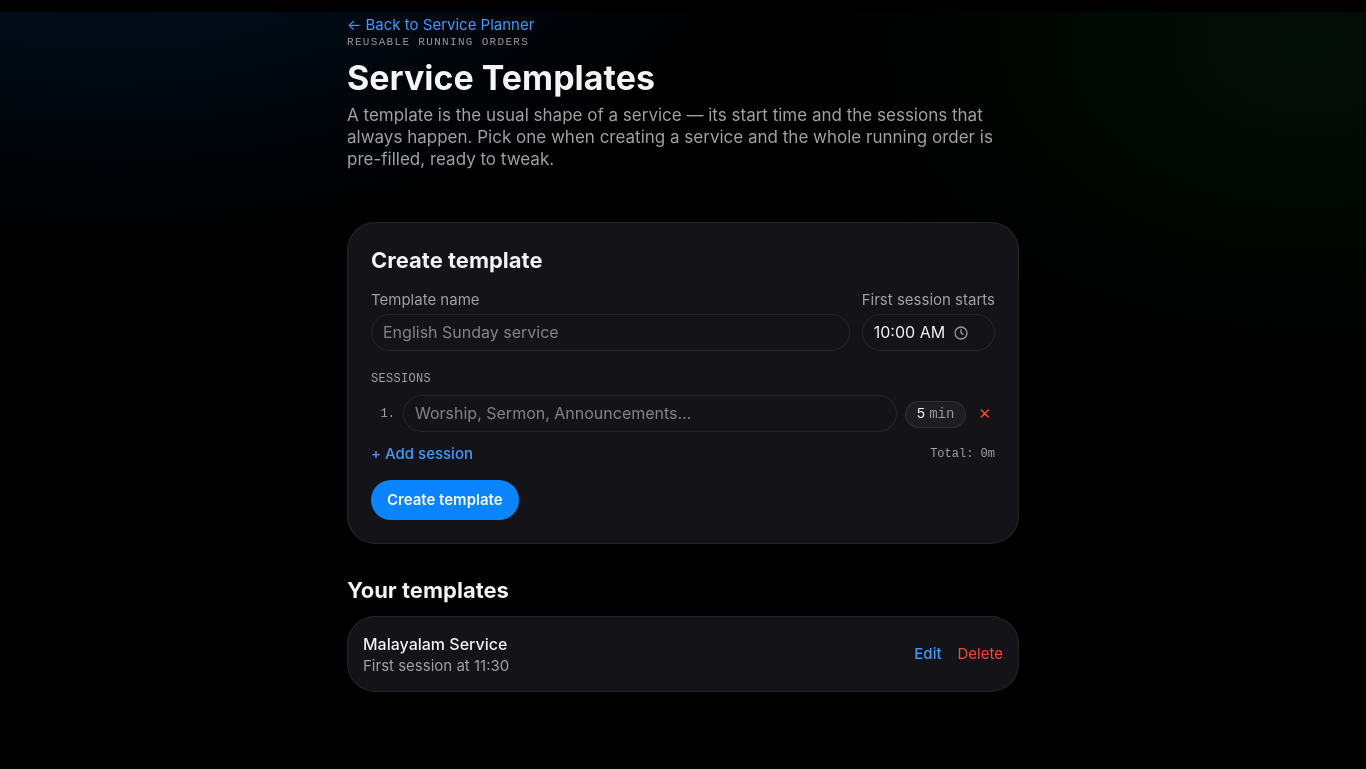
Scenario: editing a template reaches the services it made (0222) › offers what to do with the upcoming services, keeping hand changes unless told otherwise
Click the button "Edit": (928, 654) [914, 644, 942, 664]
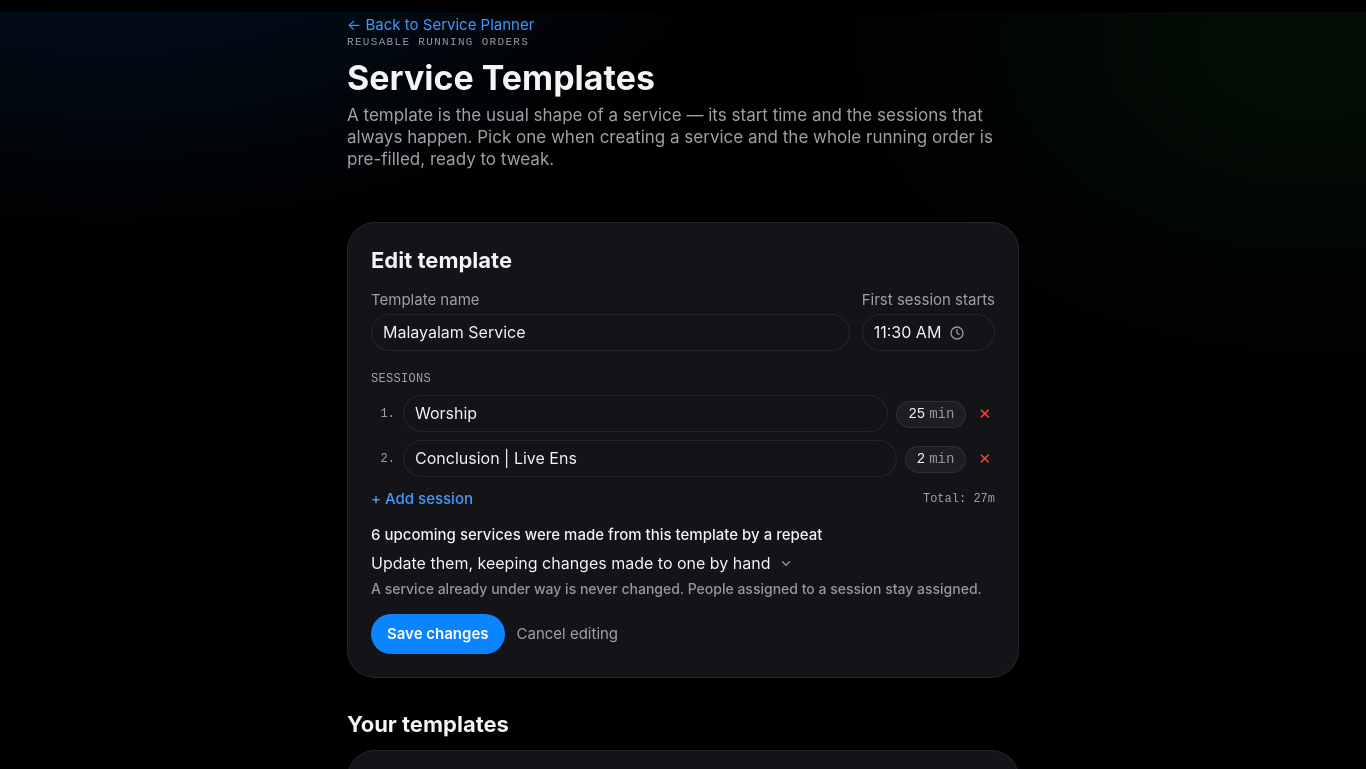
expect the text "6 upcoming services were made from this template by a repeat" is shown: met, box [371, 525, 822, 544]
Clear the 2nd field showing "Conclusion | Live Ens": (650, 458) [403, 440, 897, 477]
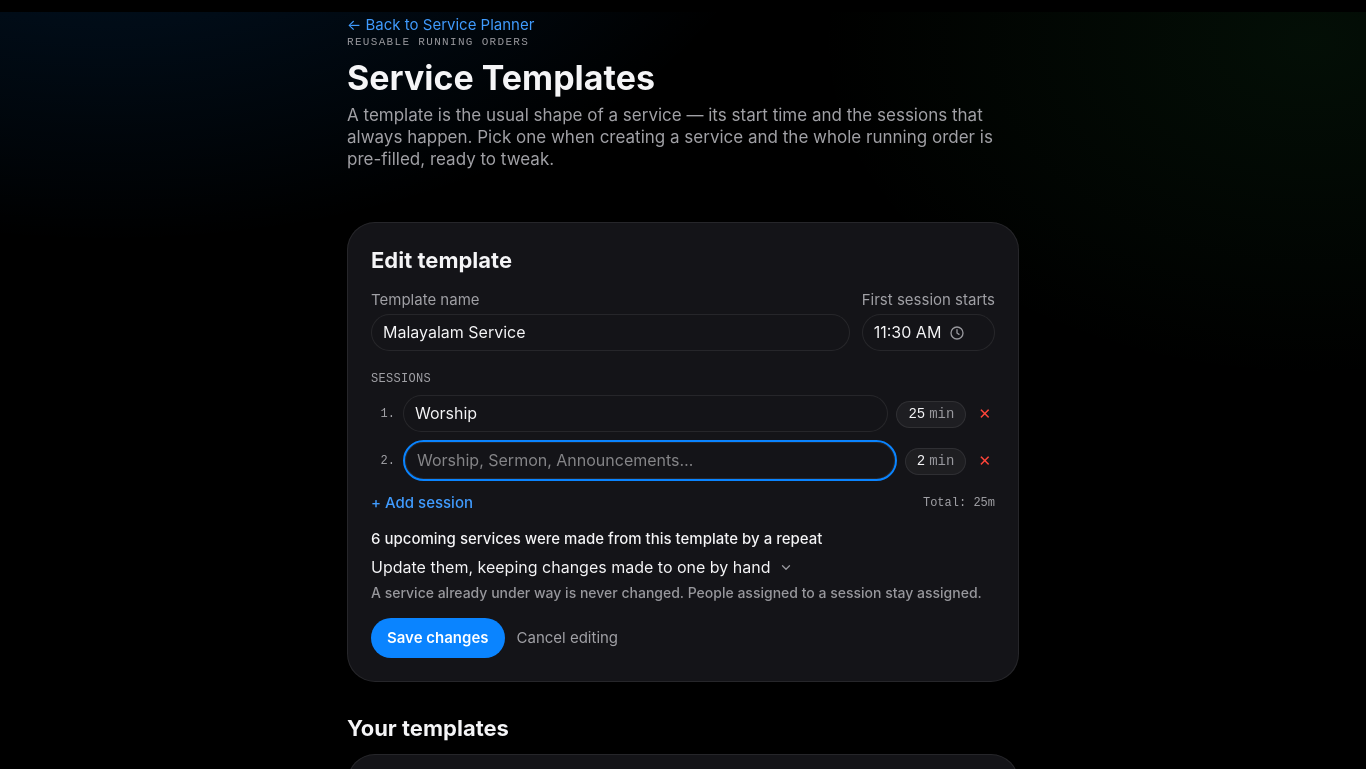
In the field showing "Conclusion | Live Ens": (650, 460) [403, 440, 897, 481], type "Conclusion | Live End"
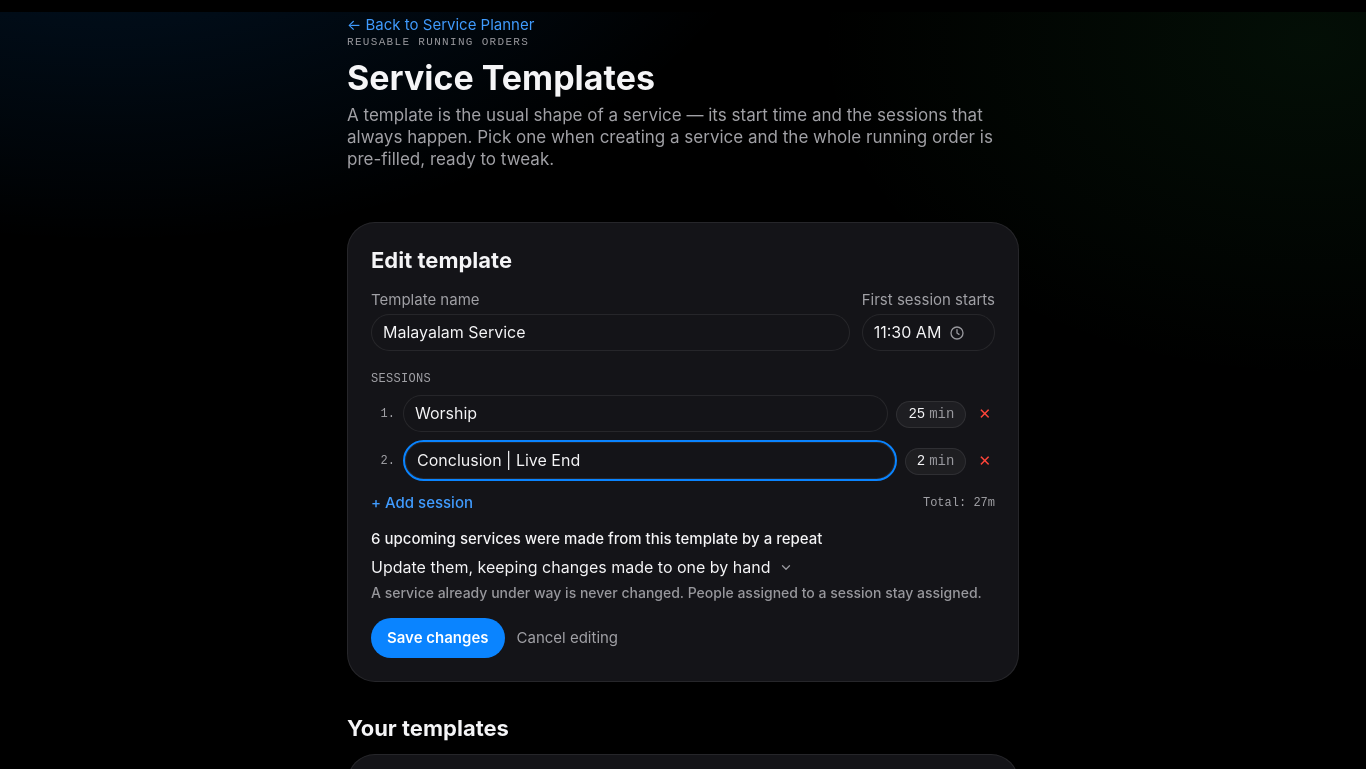
Click the button "Save changes": (438, 638) [371, 618, 504, 658]
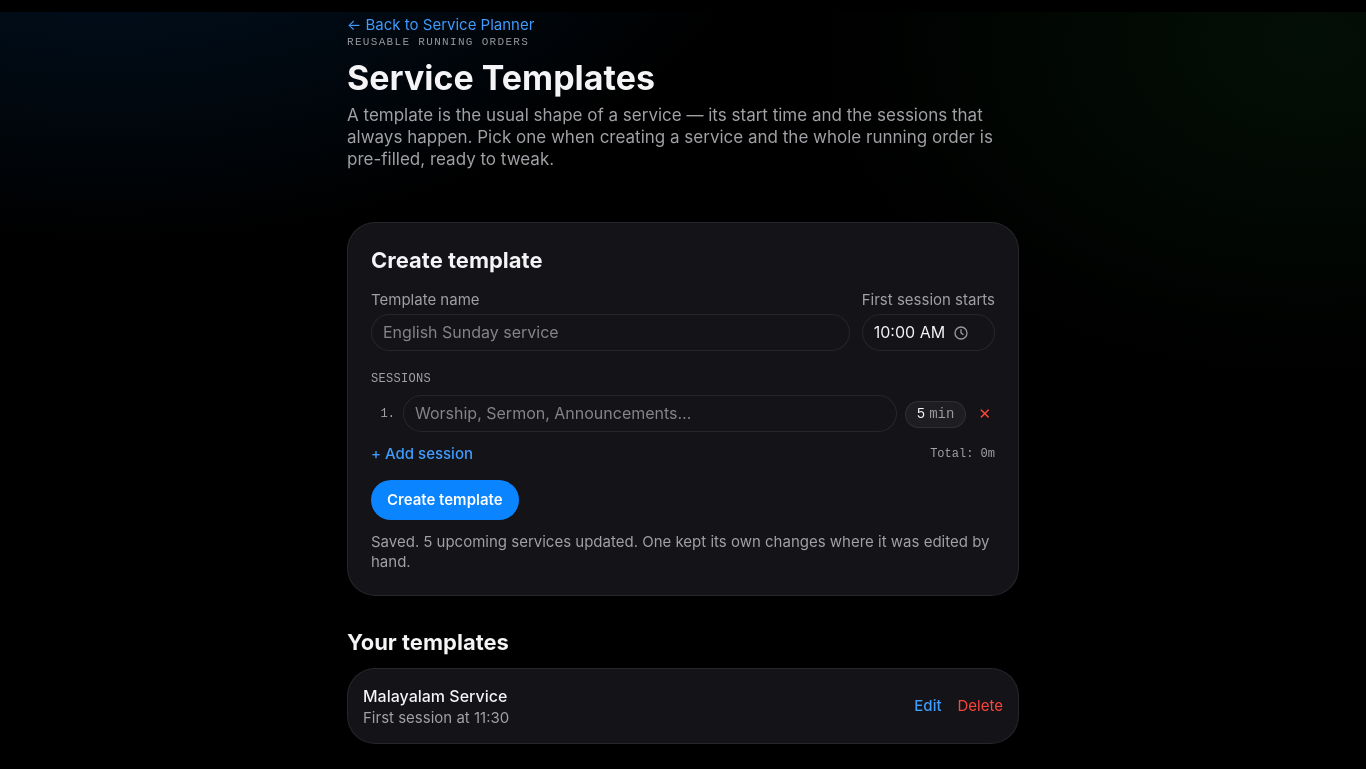
expect the message shows "5 upcoming services updated. One kept its own changes": met, box [371, 532, 990, 571]
